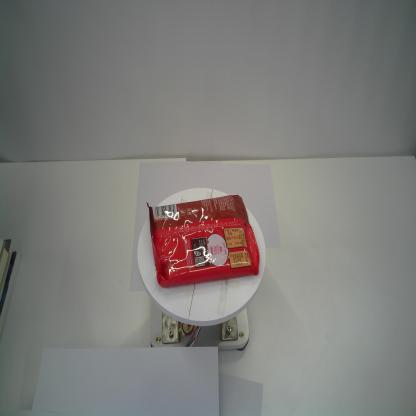Dessert: (145, 194, 261, 288)
